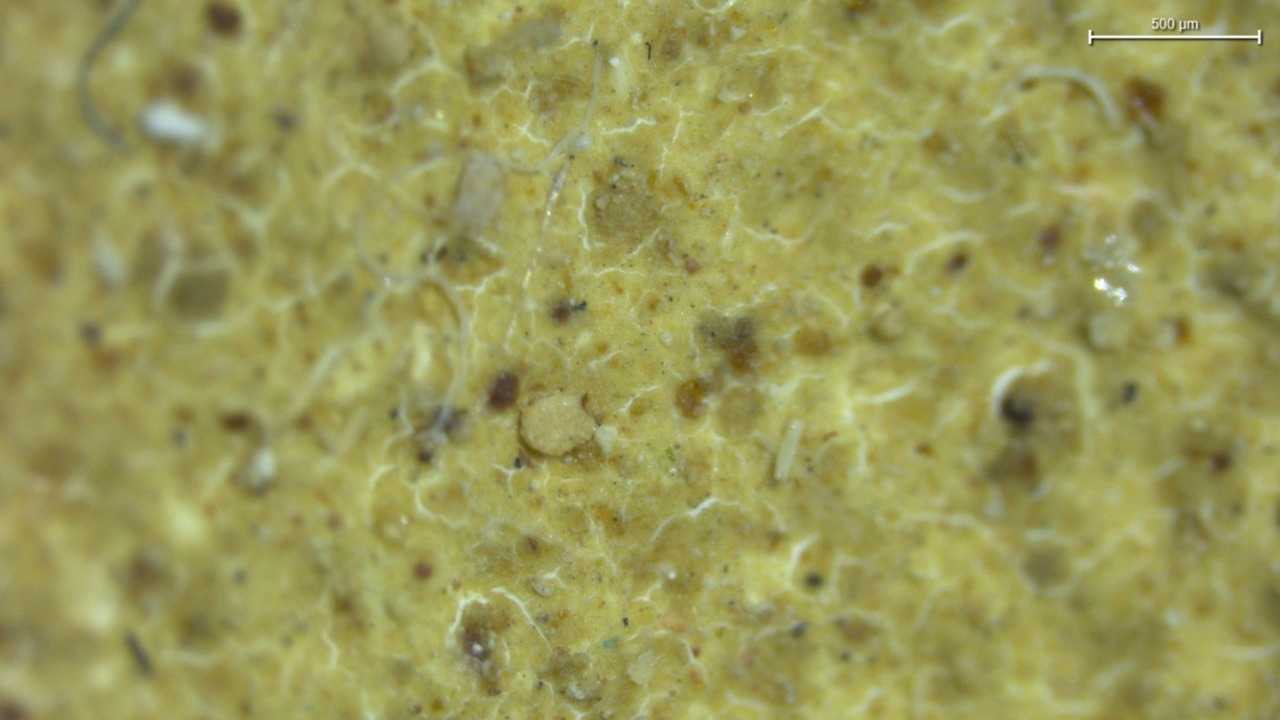microplastic_fragment: (520, 389, 596, 457)
